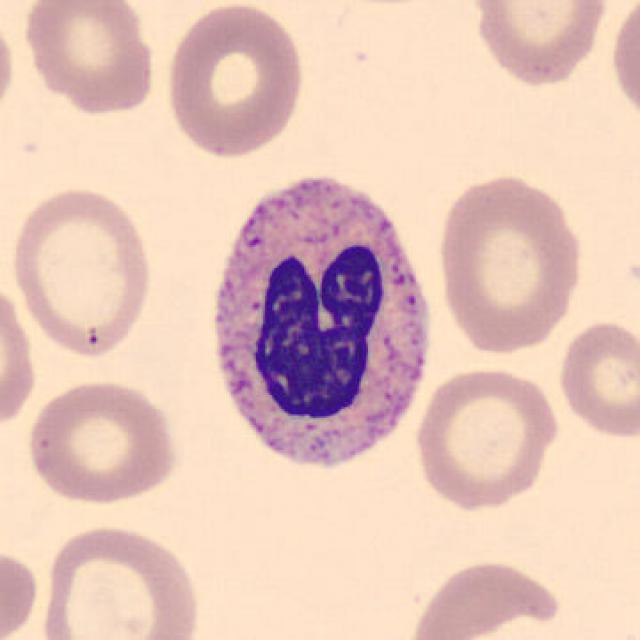Neutrophil: (190, 159, 444, 492)
RBC: (432, 169, 588, 356), (5, 182, 158, 363), (159, 0, 309, 160), (409, 361, 563, 513), (23, 374, 183, 508), (36, 520, 204, 640), (18, 0, 160, 116), (403, 555, 569, 640), (466, 0, 612, 90), (553, 316, 638, 442), (0, 277, 39, 437), (606, 0, 640, 132), (0, 541, 43, 640), (0, 7, 20, 129)
